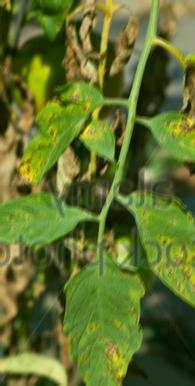Tomato Septoria leaf spot: (54, 243, 148, 386), (8, 73, 110, 182), (130, 184, 195, 321), (0, 184, 88, 258), (133, 107, 195, 170)
